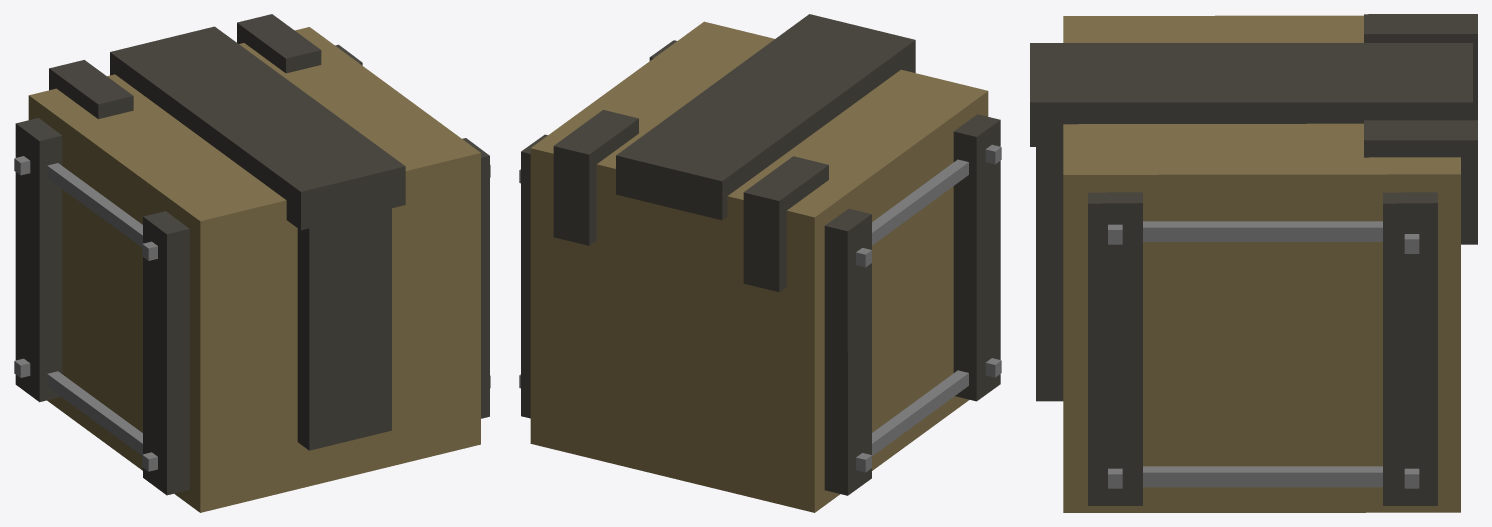
File: Crate 5.fbx
The picture shows the model from 3 angles, left to right: view 1: azimuth 30°, elevation 25°; view 2: azimuth 150°, elevation 25°; view 3: azimuth 270°, elevation 25°; orthographic projection. The views are drawn at different scales.
Parts seen in each view (by area): view 1: PM3D_Cube3D1_254; view 2: PM3D_Cube3D1_254; view 3: PM3D_Cube3D1_254.
Boxes of the visible parts, <box> form: PM3D_Cube3D1_254: <box>14,14,490,512</box>; PM3D_Cube3D1_254: <box>519,14,1001,512</box>; PM3D_Cube3D1_254: <box>1030,14,1477,512</box>.
Bounding box in the file's own units: 57.7 × 50.05 × 56.42.
